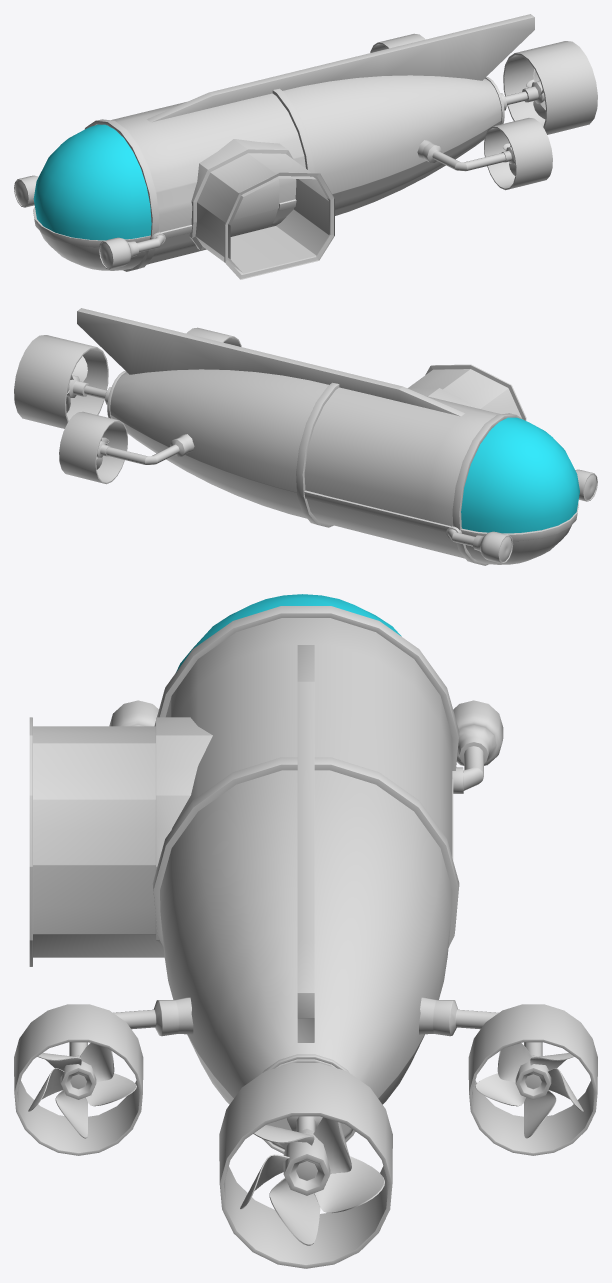
The model's file is SM_EscapePod.fbx.
The picture shows the model from 3 angles, top to bottom: view 1: azimuth 30°, elevation 25°; view 2: azimuth 150°, elevation 25°; view 3: azimuth 270°, elevation 25°; orthographic projection. The views are drawn at different scales.
Visible parts, largest first — view 1: Escape_Pod_lp, Escape_Pod_Doc_lp, Escape_Pod_Top_lp, Escape_Pod_Glass_lp, Escape_Pod_Door_Top_lp, Escape_Pod_Door_Bottom_lp; view 2: Escape_Pod_lp, Escape_Pod_Top_lp, Escape_Pod_Glass_lp, Escape_Pod_Doc_lp; view 3: Escape_Pod_lp, Escape_Pod_Top_lp, Escape_Pod_Doc_lp, Escape_Pod_Glass_lp.
Part boxes in pixels (x1,y1,x2,y2): Escape_Pod_lp: [14, 14, 597, 271]; Escape_Pod_Doc_lp: [189, 139, 334, 279]; Escape_Pod_Top_lp: [111, 93, 305, 232]; Escape_Pod_Glass_lp: [33, 124, 151, 240]; Escape_Pod_Door_Top_lp: [233, 179, 279, 219]; Escape_Pod_Door_Bottom_lp: [230, 209, 277, 235]; Escape_Pod_lp: [14, 308, 597, 565]; Escape_Pod_Top_lp: [304, 387, 500, 526]; Escape_Pod_Glass_lp: [461, 417, 579, 533]; Escape_Pod_Doc_lp: [407, 364, 526, 420]; Escape_Pod_lp: [14, 606, 597, 1268]; Escape_Pod_Top_lp: [166, 618, 452, 856]; Escape_Pod_Doc_lp: [29, 717, 212, 966]; Escape_Pod_Glass_lp: [176, 594, 401, 671].
Bounding box in the file's own units: 293 × 77.82 × 140.
